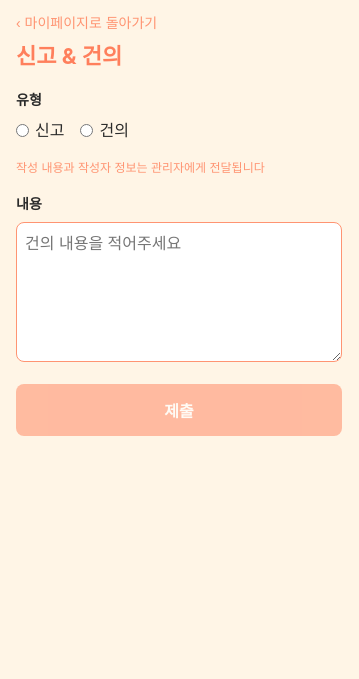
Test: Report › 신고 제출 성공: strip된 값 전송 + 완료 문구 + 폼 초기화
Click the radio button labelled "신고". click: x=22, y=130
box: [16,124,29,136]
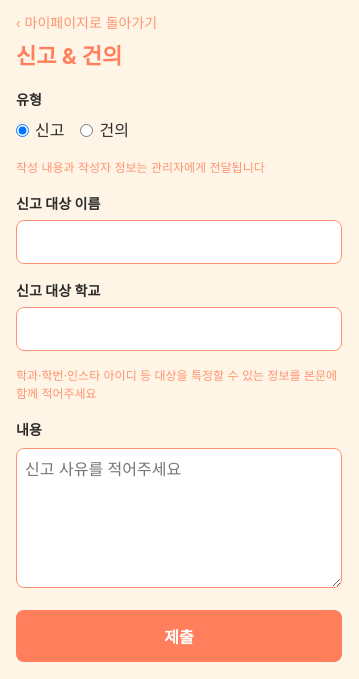
Type "  대상자  " into the field labelled "신고 대상 이름". click: x=179, y=242
box: [16,220,342,264]
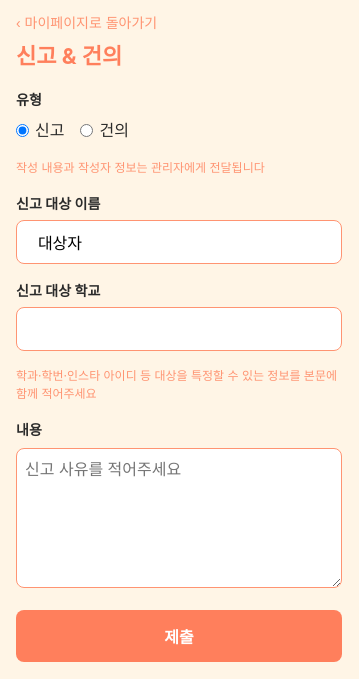
Type "  연세대학교  " into the field labelled "신고 대상 학교". click: x=179, y=328
box: [16,306,342,350]
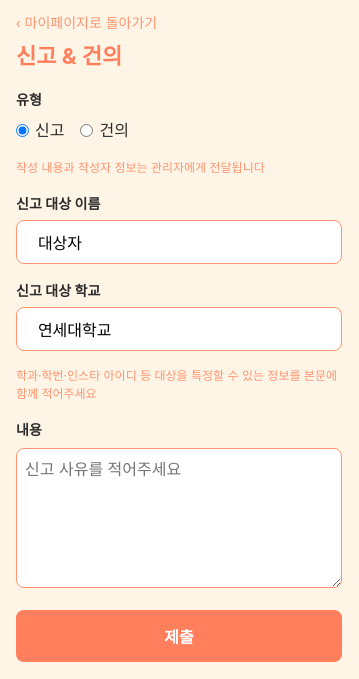
Type "사유" into the text box labelled "내용". click: x=179, y=518
box: [16,448,342,588]
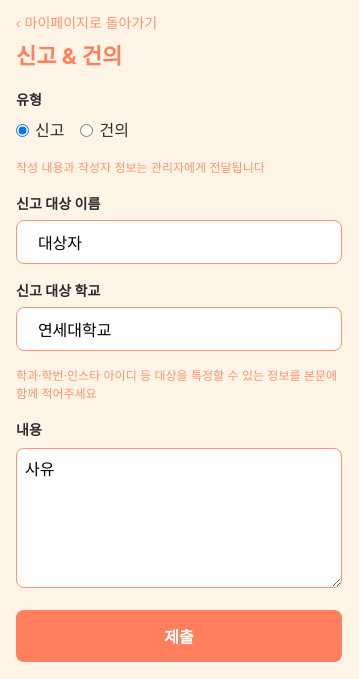
Click the button "제출". click: x=179, y=636
box: [16,610,342,662]
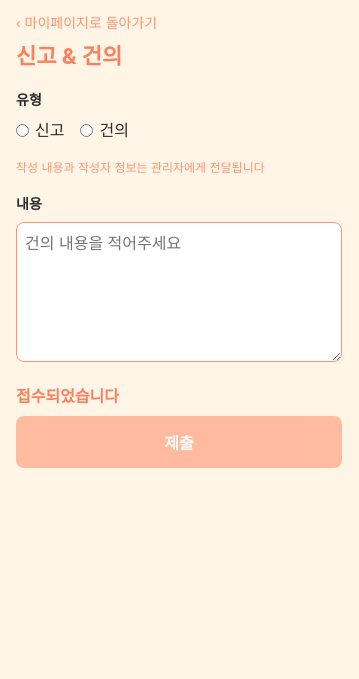
Expected: the text "접수되었습니다" is shown, [16,386,119,406]
Expected: the text box labelled "내용" is empty, [16,222,342,362]
Expected: the button "제출" is disabled, [16,416,342,468]
